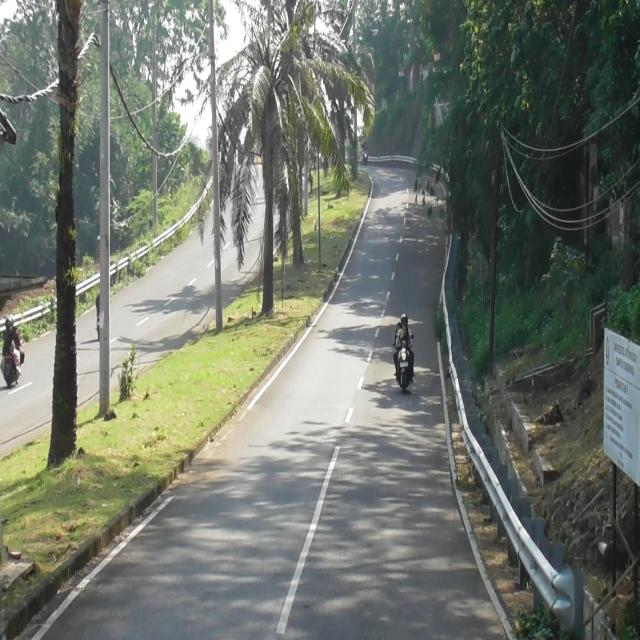motorcycle: (392, 337, 414, 393), (4, 352, 17, 391)
person: (397, 313, 412, 348), (2, 318, 14, 358), (10, 316, 21, 352), (399, 326, 410, 346), (396, 322, 404, 345)
rider_region: (394, 314, 417, 394), (2, 310, 24, 388)
